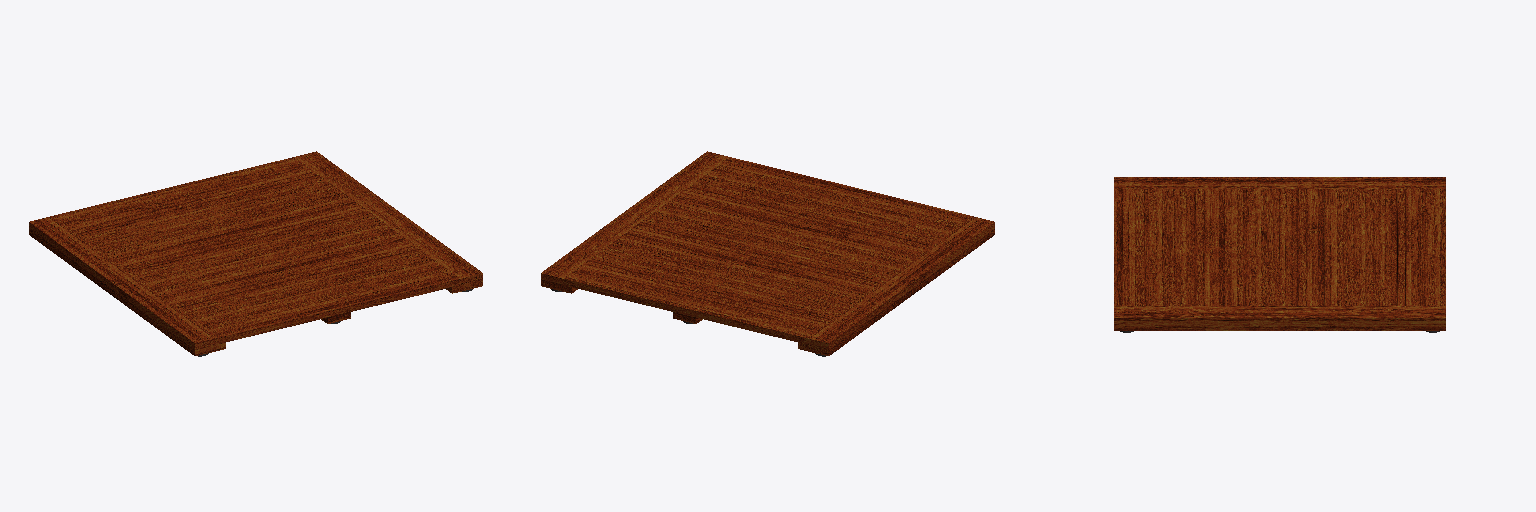
3 renders of one model, left to right at view 1: azimuth 30°, elevation 25°; view 2: azimuth 150°, elevation 25°; view 3: azimuth 270°, elevation 25°, orthographic.
Visible parts, largest first — view 1: Group_001; view 2: Group_001; view 3: Group_001.
Boxes of the visible parts, x1,y1,x2,y2 form: Group_001: [29, 151, 482, 356]; Group_001: [541, 151, 994, 356]; Group_001: [1114, 177, 1445, 332].
Bounding box in the file's own units: 14.57 × 0.8268 × 14.57.
Materials: 2 (2 with a texture image).